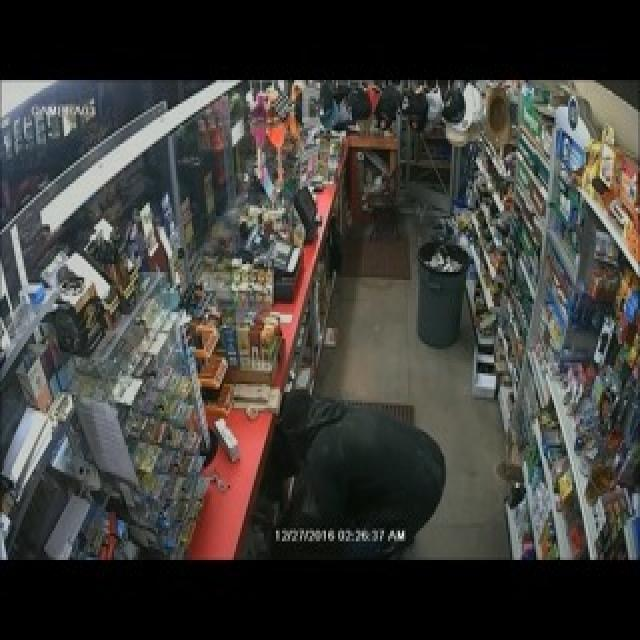thief: (266, 384, 454, 526)
